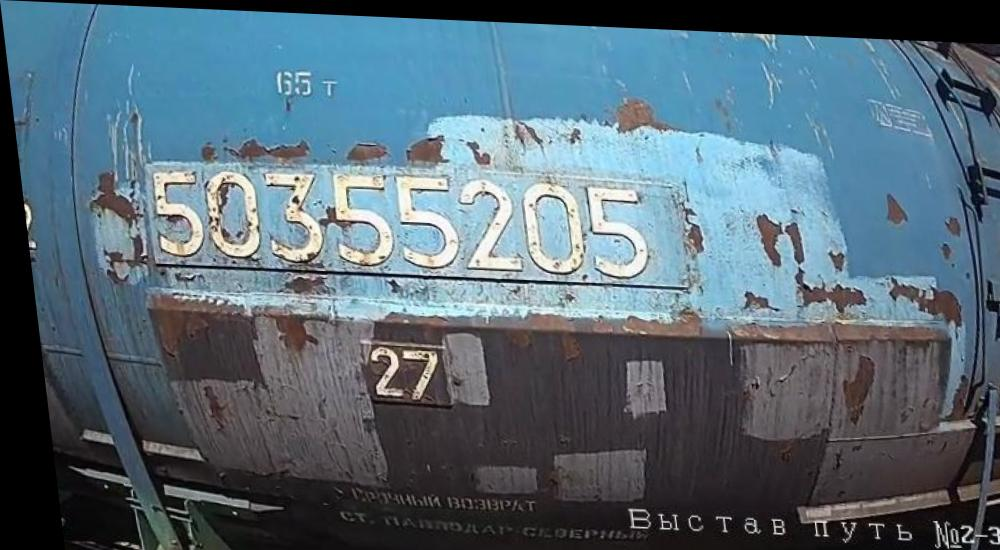Wagon-number: (142, 155, 682, 283)
